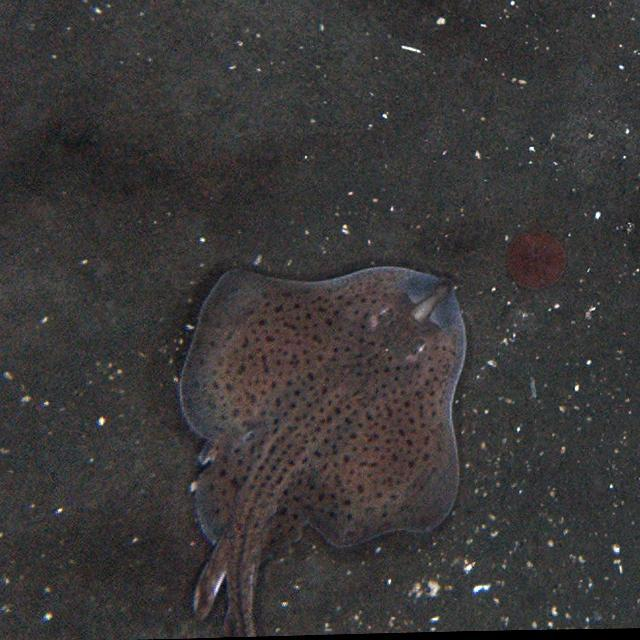skate: (172, 258, 476, 630)
